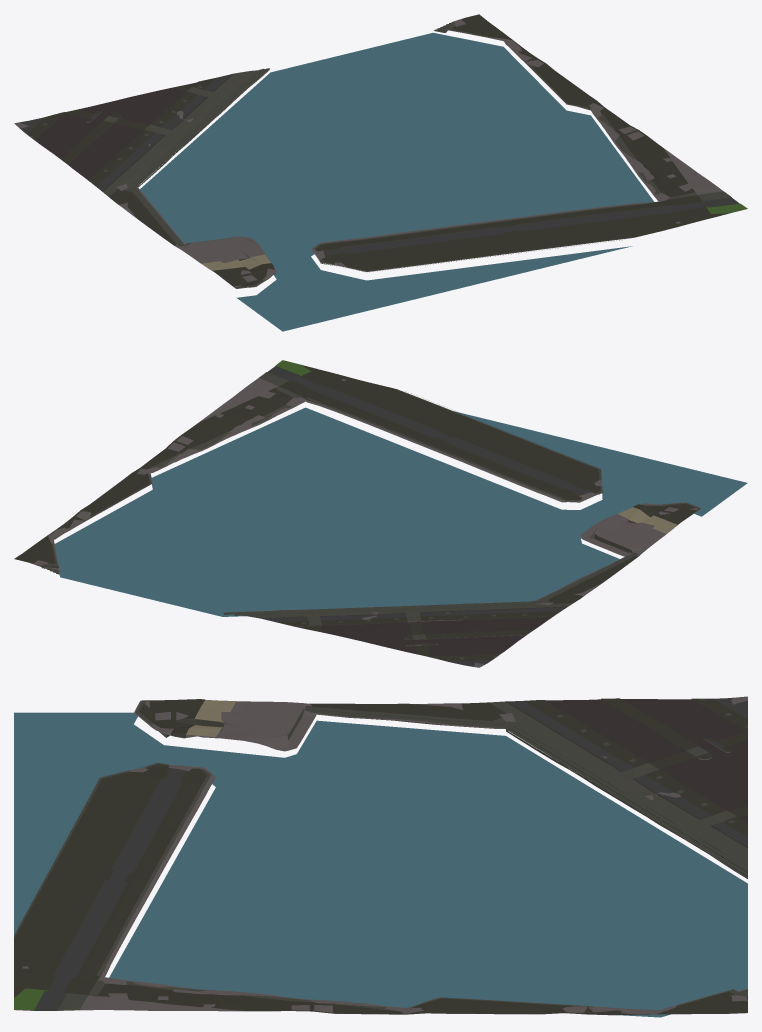
3 views of the same model, one above another, from view 1: azimuth 30°, elevation 25°; view 2: azimuth 150°, elevation 25°; view 3: azimuth 270°, elevation 25° (orthographic). The views are drawn at different scales.
Parts seen in each view (by area): view 1: c_m11_p07; view 2: c_m11_p07; view 3: c_m11_p07.
Part boxes in pixels (x1,y1,x2,y2): c_m11_p07: [14, 14, 747, 331]; c_m11_p07: [14, 360, 747, 667]; c_m11_p07: [14, 696, 747, 1017].
Bounding box in the file's own units: 128 × 3.09 × 128.
